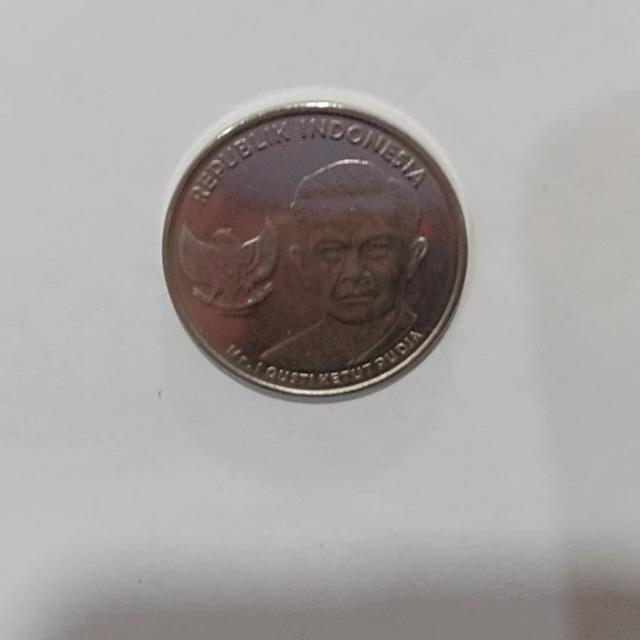Rp100: (160, 92, 469, 401)
